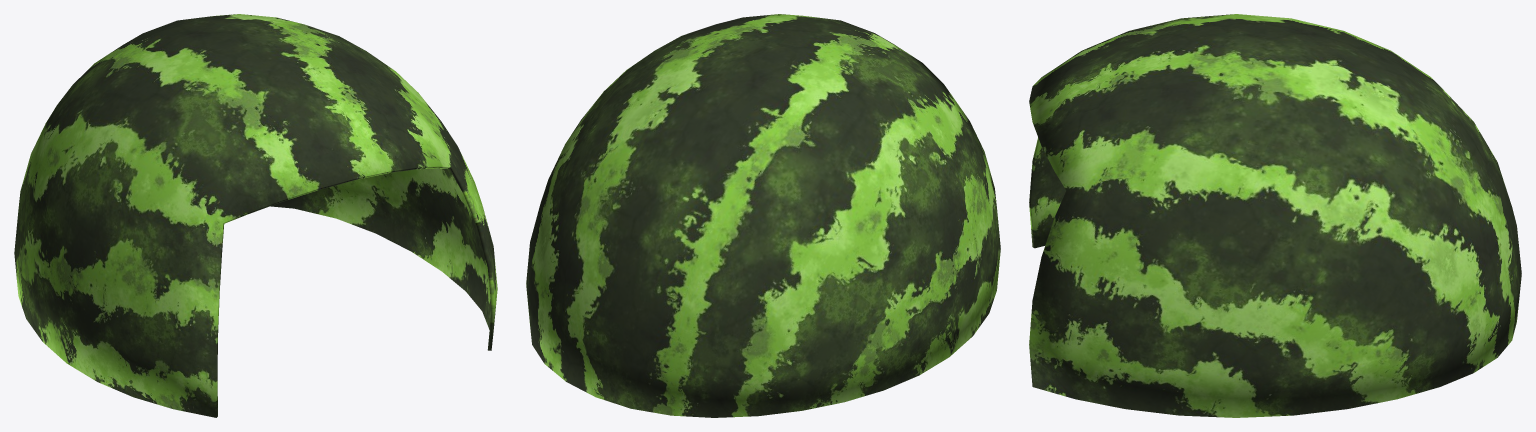
The model's file is Watermelon.fbx.
3 views of the same model, side by side, from view 1: azimuth 30°, elevation 25°; view 2: azimuth 150°, elevation 25°; view 3: azimuth 270°, elevation 25° (orthographic). The views are drawn at different scales.
Visible parts, largest first — view 1: Watermelon; view 2: Watermelon; view 3: Watermelon.
Boxes of the visible parts, left/top/right/bottom form: Watermelon: left=14, top=14, right=497, bottom=417; Watermelon: left=526, top=14, right=1000, bottom=417; Watermelon: left=1029, top=14, right=1521, bottom=417.
Size of the model in its own units: 11.54 by 7.85 by 12.29.
